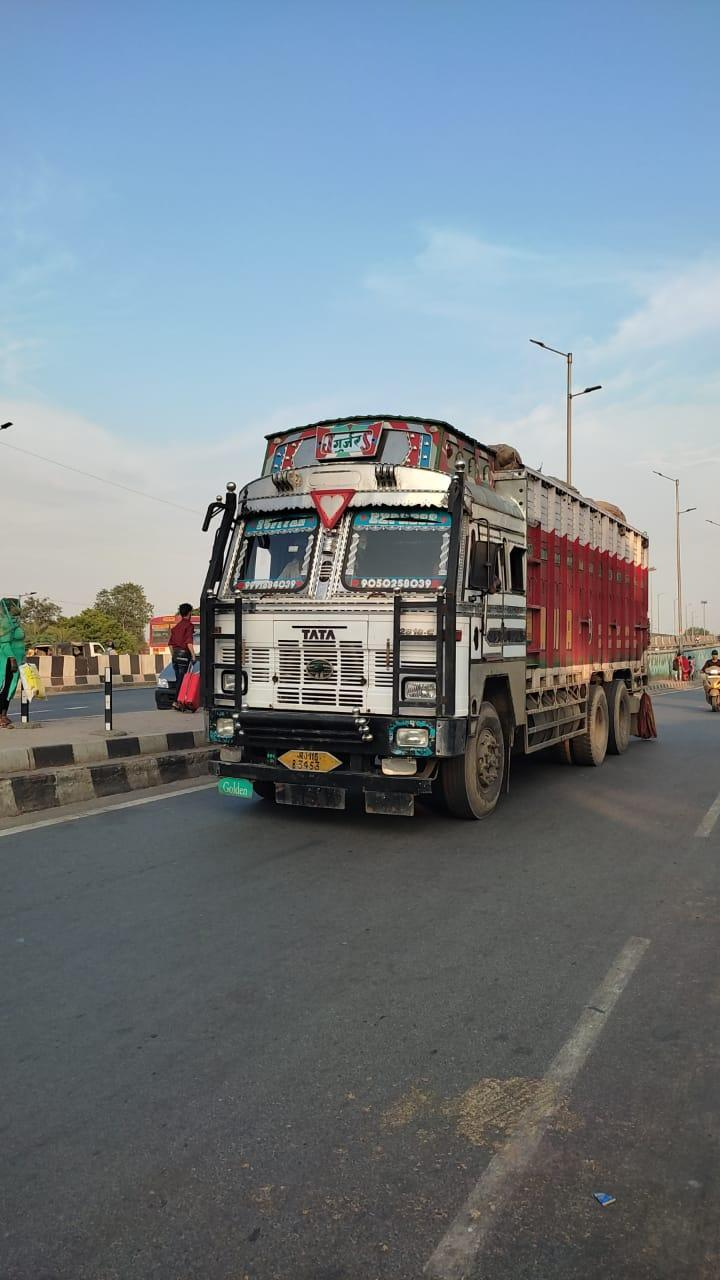truck: (172, 390, 720, 844)
